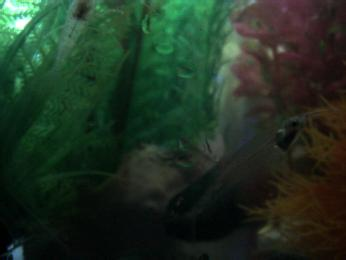glassfish: (174, 112, 309, 227)
siberian prawn: (39, 1, 104, 85)
